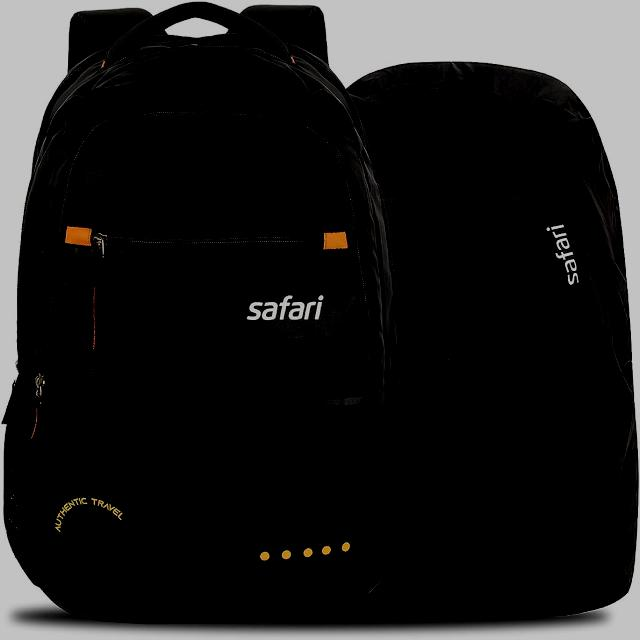backpack: (3, 3, 638, 625)
